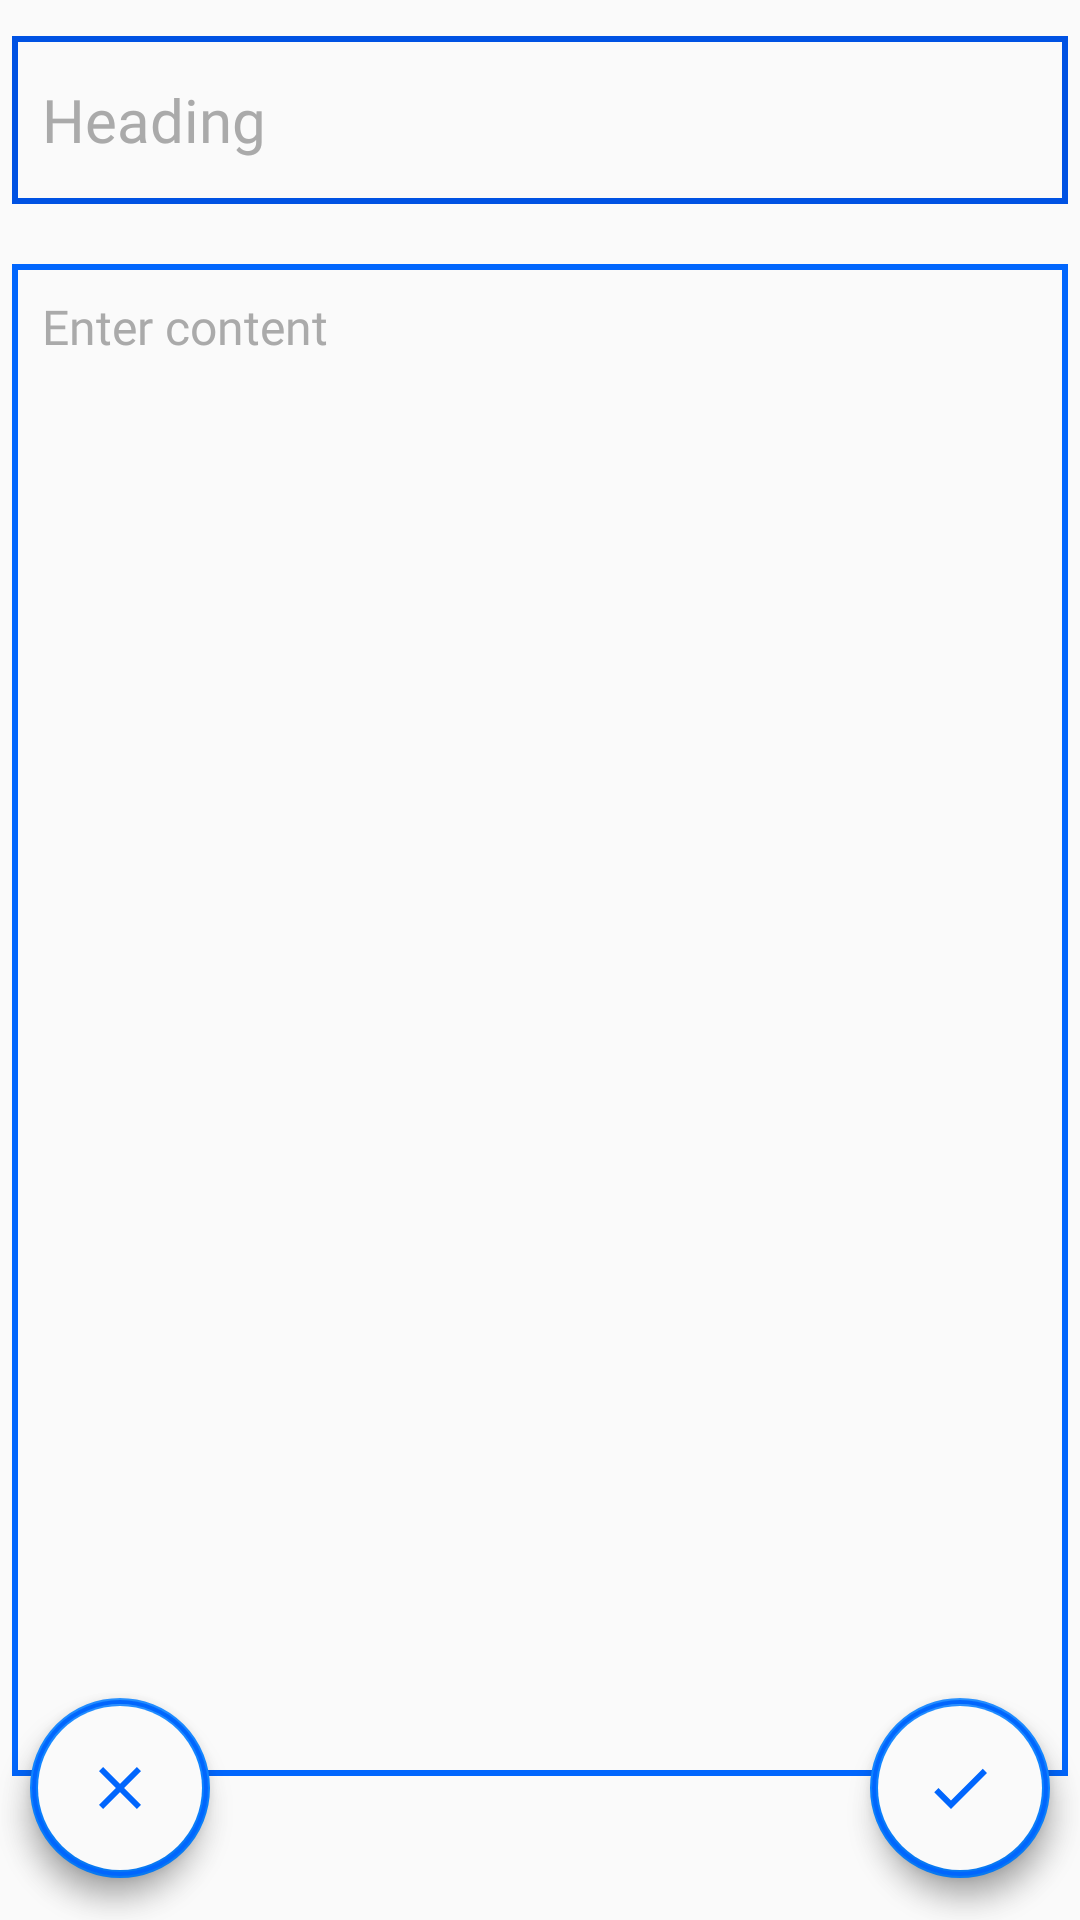

Screen size 1080×1920. Icon name, then its center in pixels as (x=x, y=y):
cancel: (x=120, y=1788)
save: (x=960, y=1788)
